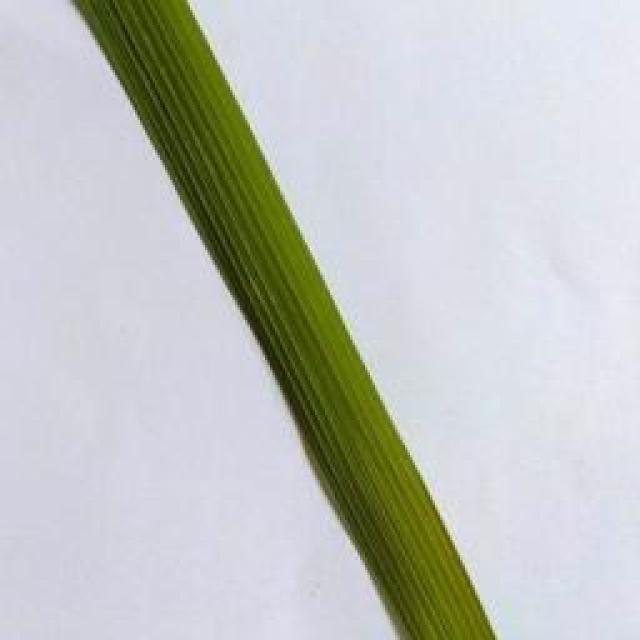Healthy-Plant: (70, 0, 500, 640)
